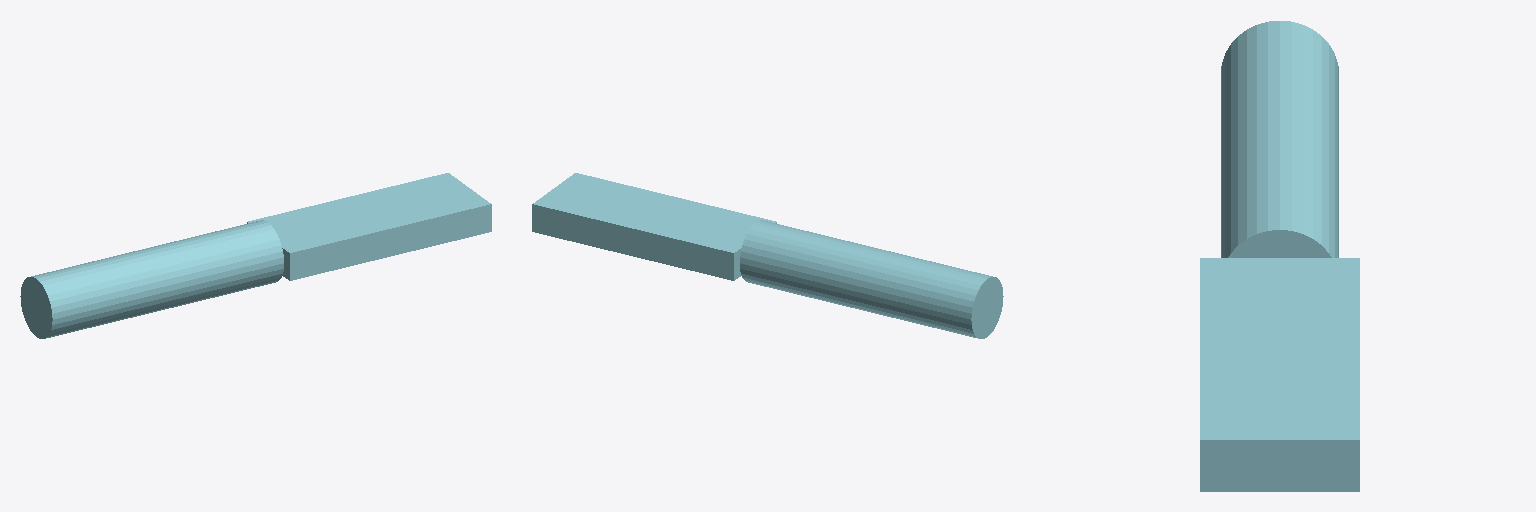
robot.urdf — cylinder_spatula_v6007:
<?xml version="1.0"?>
<robot name="cylinder_spatula_v6007">

  <link name="cylinder_spatula_v6007">
    <!-- Handle -->
    <visual>
      <origin xyz="0 0 0" rpy="0 1.5707963267948966 0"/>
      <geometry>
        <cylinder length="0.17030334656988927" radius="0.020422122163365787"/>
      </geometry>
      <material name="material">
        <color rgba="0.639 0.847 0.882 1.0"/>
      </material>
    </visual>
    <collision>
      <origin xyz="0 0 0" rpy="0 1.5707963267948966 0"/>
      <geometry>
        <cylinder length="0.17030334656988927" radius="0.020422122163365787"/>
      </geometry>
    </collision>

    <!-- Head -->
    <visual>
      <origin xyz="0.1592419706620714 0 0" rpy="0 0 0"/>
      <geometry>
        <box size="0.14818059475425355 0.054814308386321765 0.019550117472554654"/>
      </geometry>
      <material name="material">
        <color rgba="0.639 0.847 0.882 1.0"/>
      </material>
    </visual>
    <collision>
      <origin xyz="0.1592419706620714 0 0" rpy="0 0 0"/>
      <geometry>
        <box size="0.14818059475425355 0.054814308386321765 0.019550117472554654"/>
      </geometry>
    </collision>

    <inertial>
      <density value="400.0"/>
    </inertial>
  </link>

</robot>

--- Facts derived from the render (not from the file) ---
3 views of the same robot in one strip: view 1: azimuth 30°, elevation 25°; view 2: azimuth 150°, elevation 25°; view 3: azimuth 270°, elevation 25° (orthographic).
Model cylinder_spatula_v6007 with 1 links and 0 joints (none), rooted at cylinder_spatula_v6007, posed all joints at 0.
Links seen in each view (by area): view 1: cylinder_spatula_v6007; view 2: cylinder_spatula_v6007; view 3: cylinder_spatula_v6007.
Boxes of the visible links, box(x1,y1,x2,y2) form: cylinder_spatula_v6007: box(20, 173, 491, 338); cylinder_spatula_v6007: box(532, 173, 1003, 338); cylinder_spatula_v6007: box(1200, 21, 1359, 491).
Size in the robot's own frame: 0.3185 by 0.0548 by 0.0408 metres.
Geometry: primitives only (box / cylinder / sphere), no mesh files.
